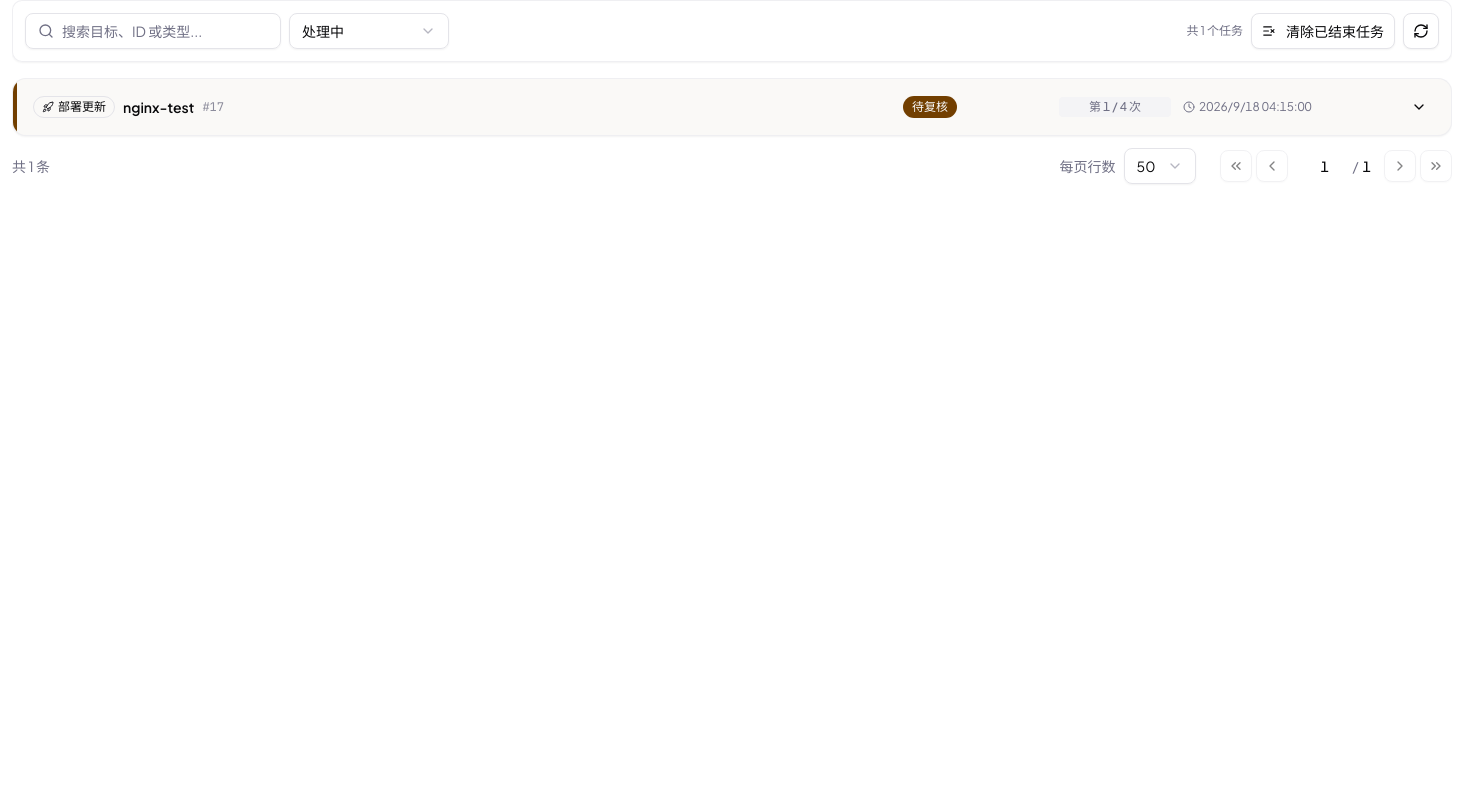
Test case: persistent task queue › keeps downgrade warnings visible during initial onboarding
Expected: the text "nginx-test" is shown, [123, 97, 194, 117]
Click the button named "任务 #17 详情". click: [1419, 107]
box: [1403, 91, 1435, 123]
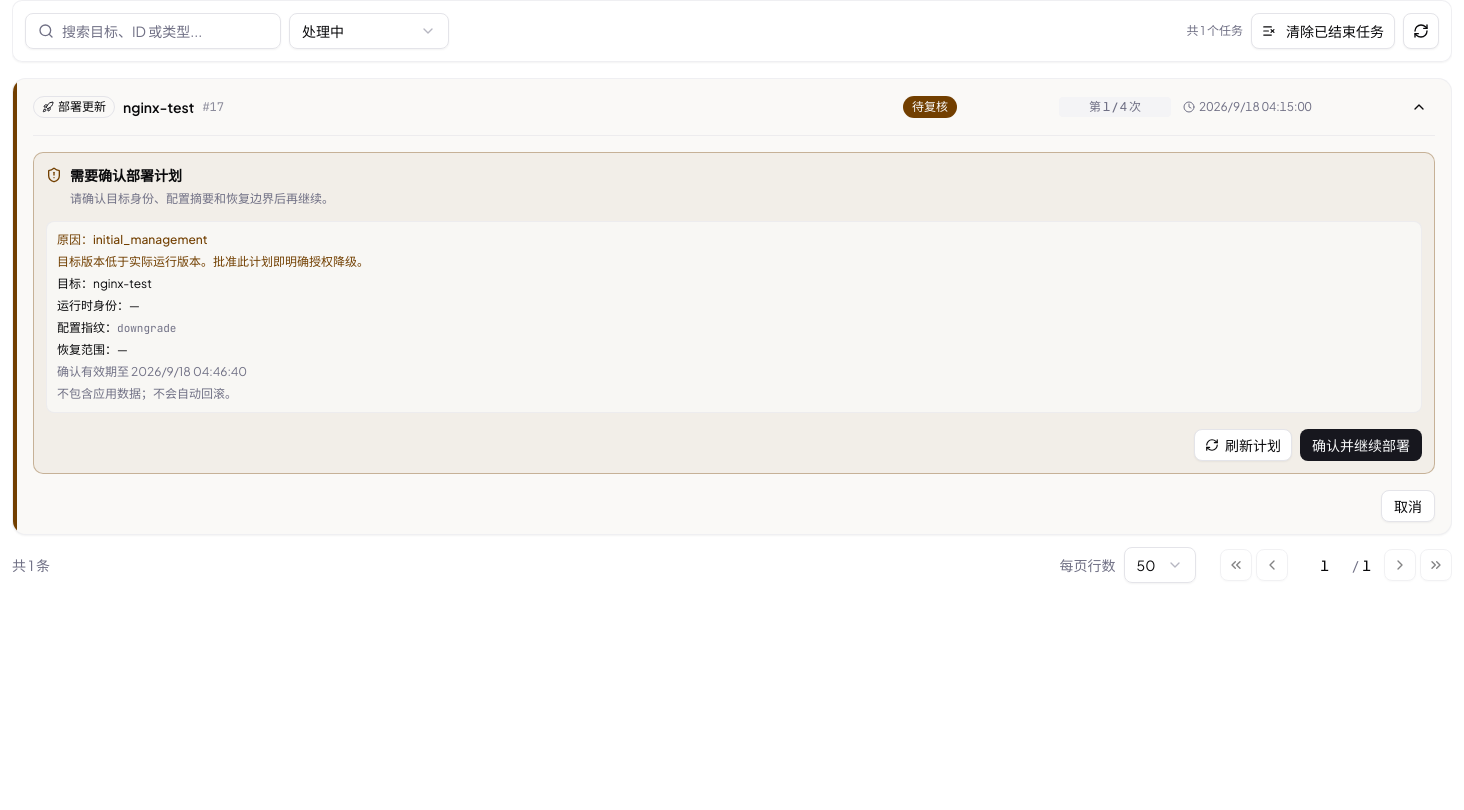
Now the text "目标版本低于实际运行版本。批准此计划即明确授权降级。" is shown, box [57, 254, 369, 268]
